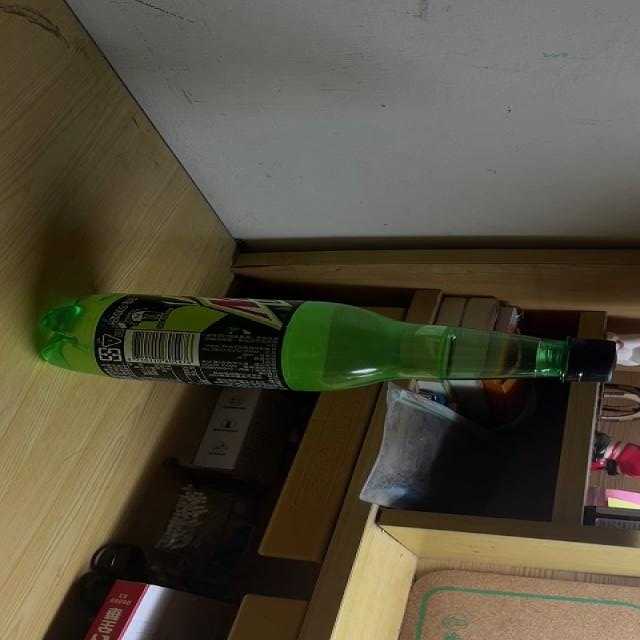Mountain-Dew: (32, 292, 618, 392)
